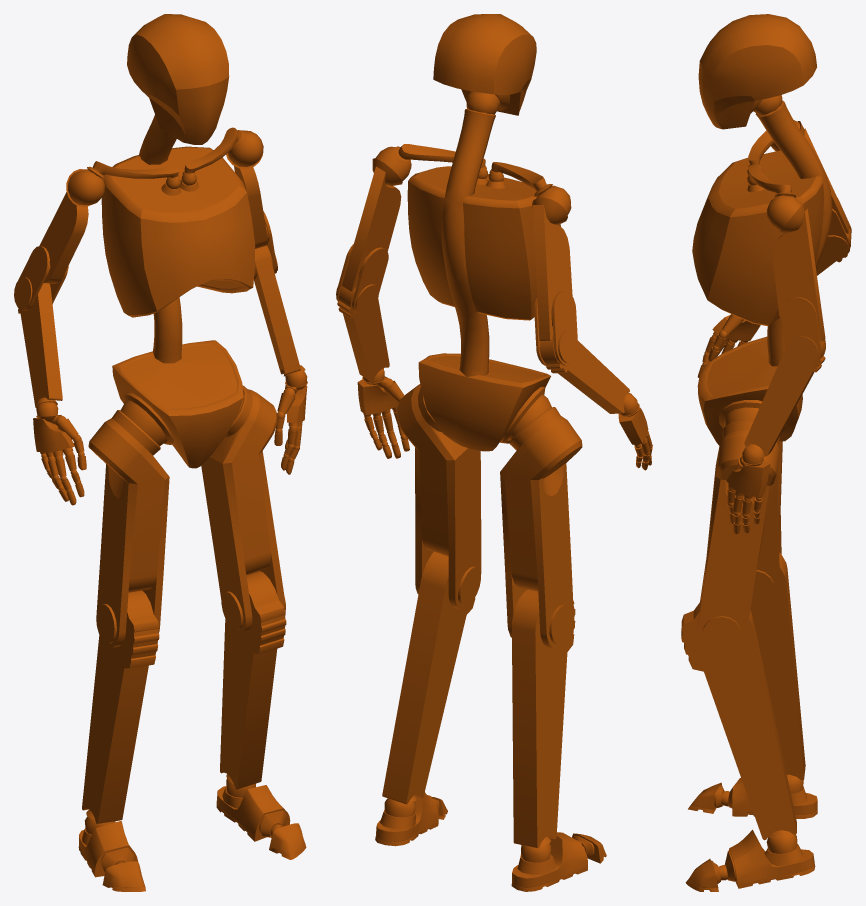
File: RobotAnimacja_000037.obj
The picture shows the model from 3 angles, left to right: view 1: azimuth 30°, elevation 25°; view 2: azimuth 150°, elevation 25°; view 3: azimuth 270°, elevation 25°; orthographic projection.
Visible parts, largest first — view 1: free3dmodel.001; view 2: free3dmodel.001; view 3: free3dmodel.001.
Part boxes in pixels (bbox=[...]): free3dmodel.001: bbox=[14, 14, 307, 891]; free3dmodel.001: bbox=[336, 14, 652, 891]; free3dmodel.001: bbox=[681, 14, 851, 891].
Bounding box in the file's own units: 2.08 × 6.03 × 1.13.
